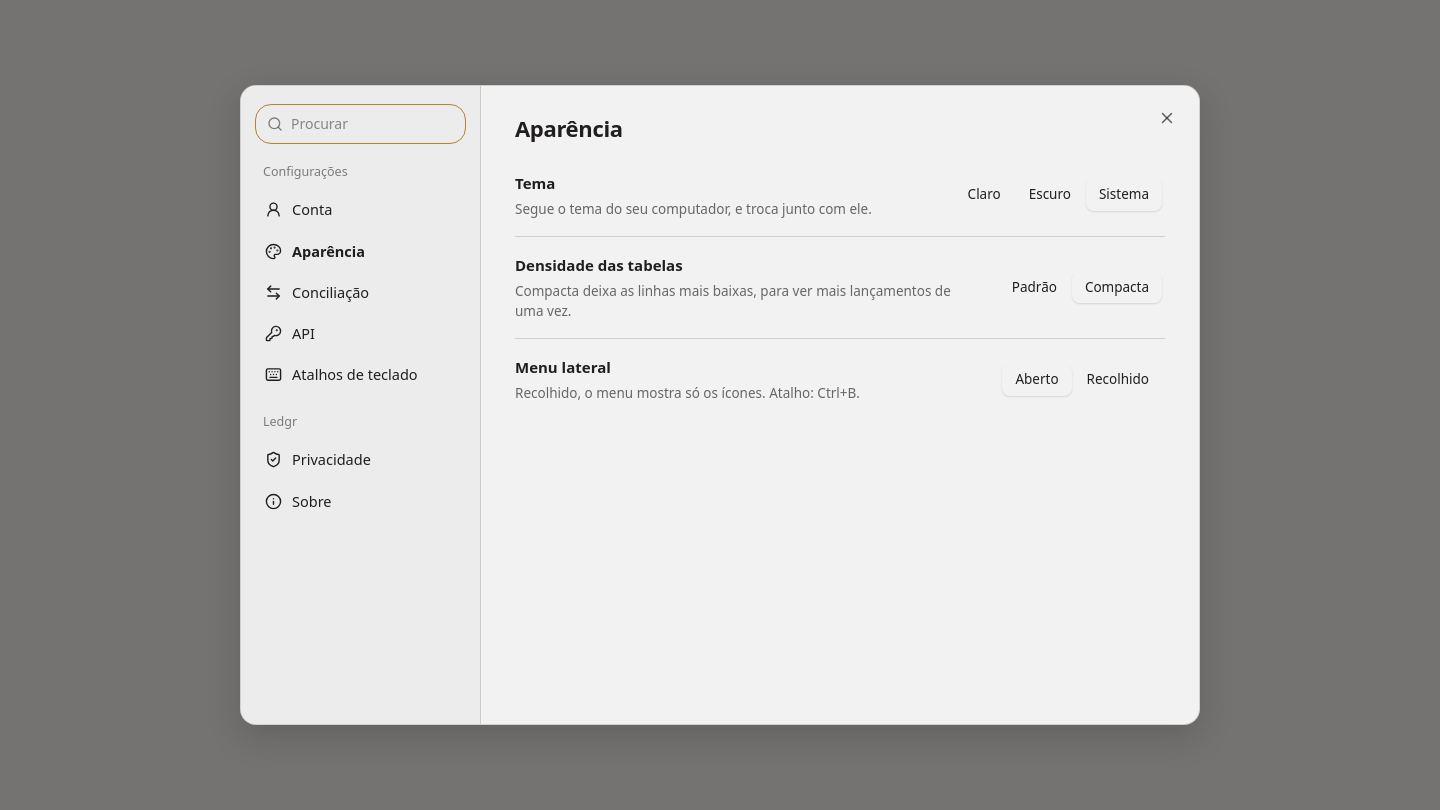
Test: Configuracoes › the date tolerance › changes it with − and +, within the limit the backend gives, and saves it
Click the button "Conciliação" at x=360, y=292, box x1=255 y1=273 x2=466 y2=312
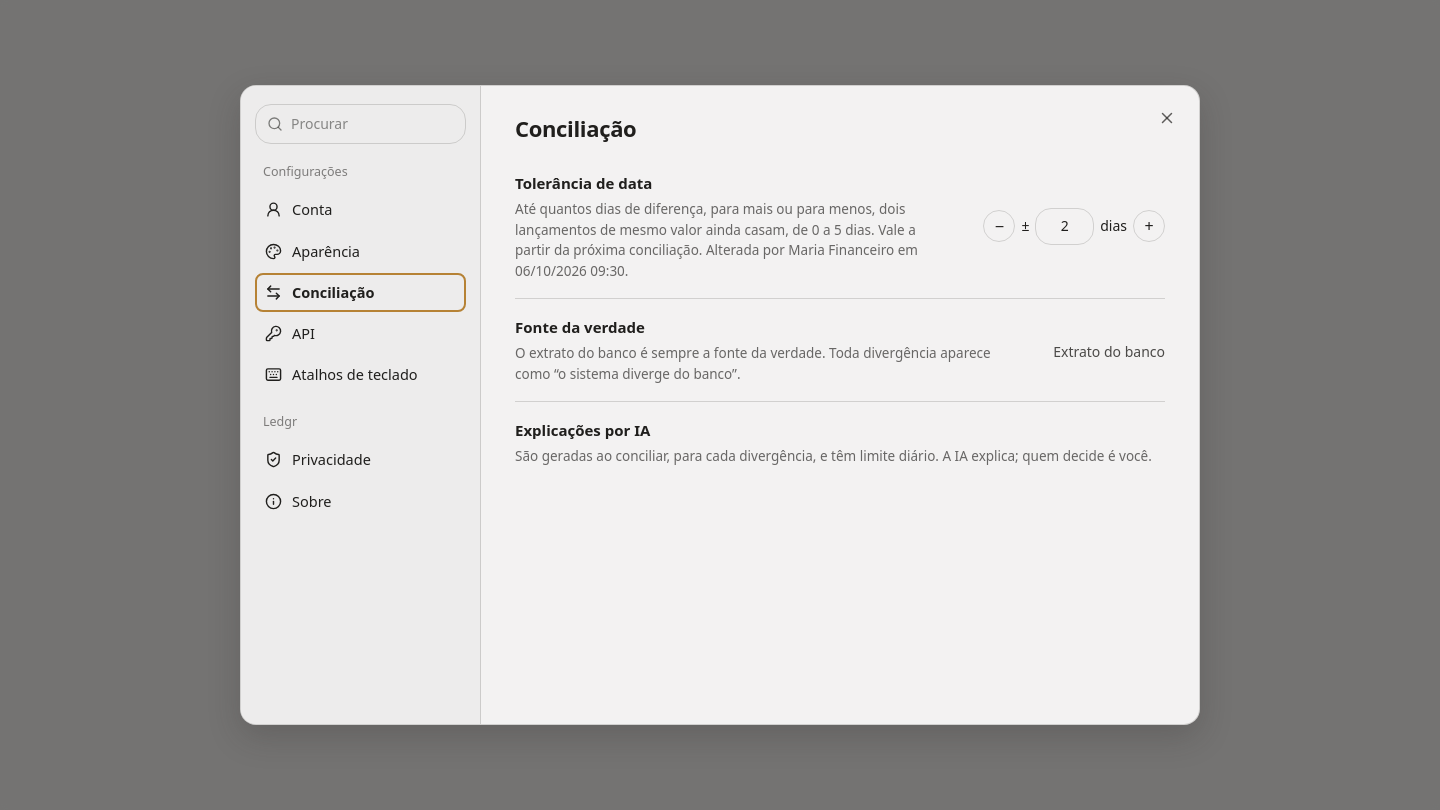
Click the button named "Um dia a mais" at x=1149, y=226, box x1=1133 y1=210 x2=1165 y2=242
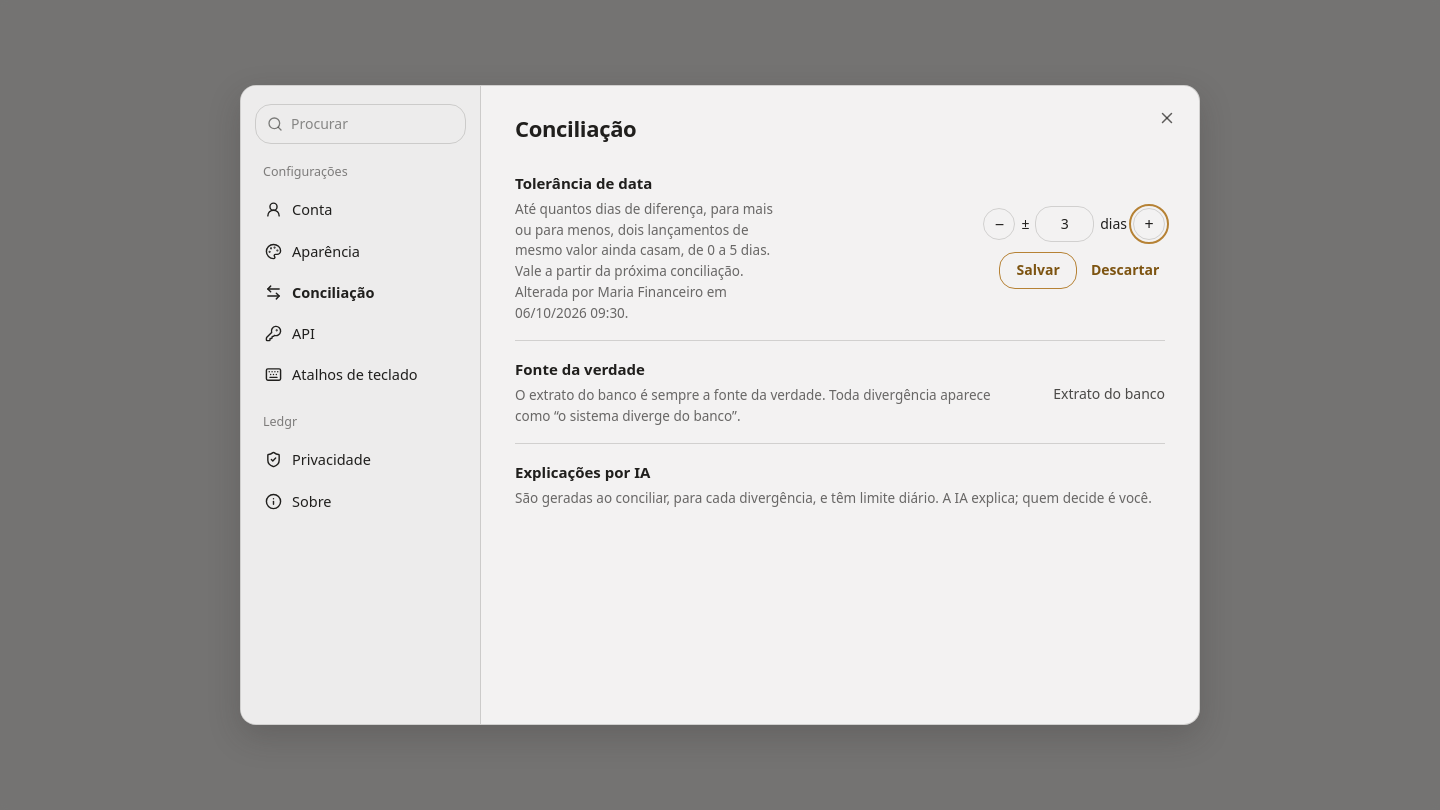
Click the button named "Um dia a mais" at x=1149, y=224, box x1=1133 y1=208 x2=1165 y2=240
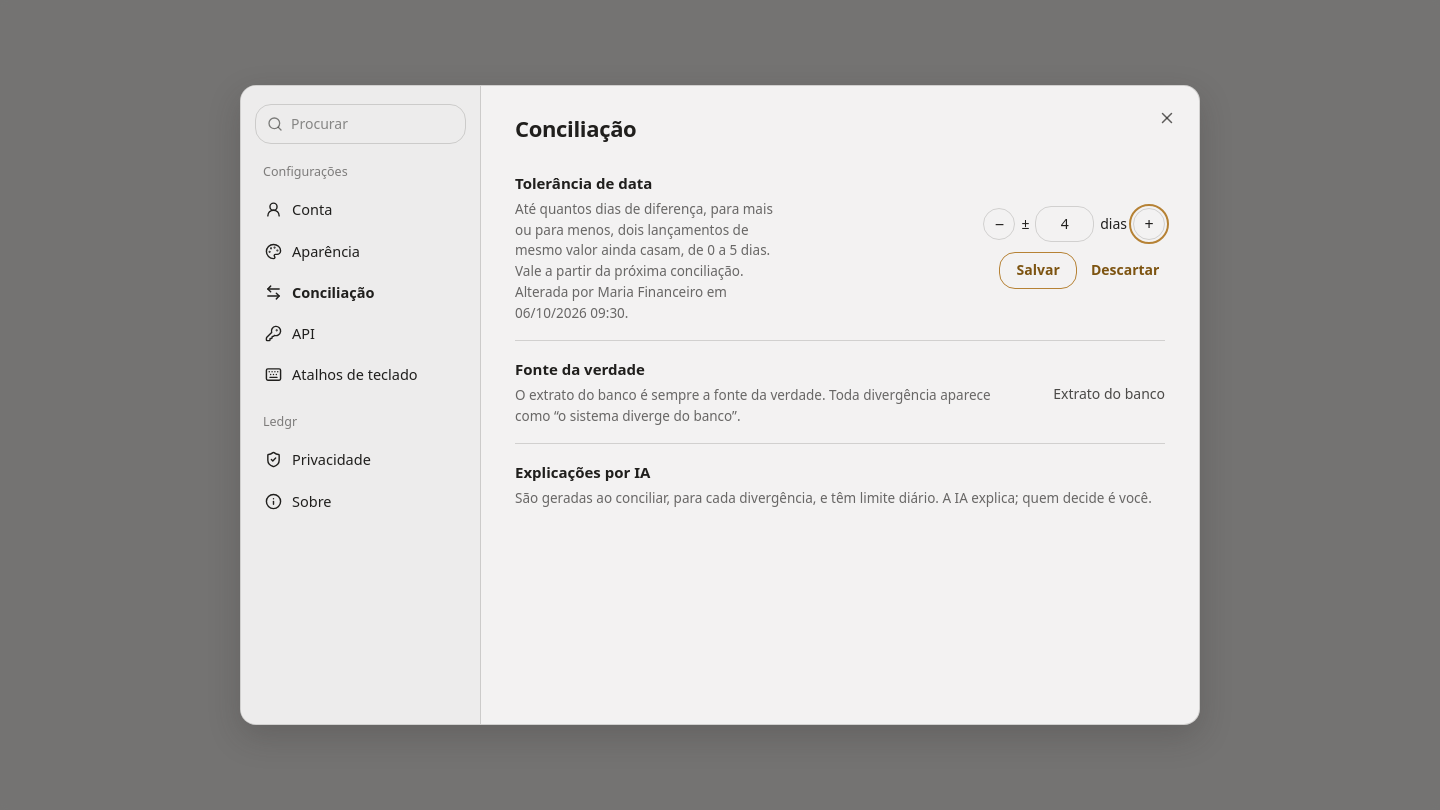
Expected: the number field named "Tolerância de data, em dias para mais ou para menos" holds "4", x1=1035 y1=206 x2=1094 y2=242
Click the button "Salvar" at x=1038, y=271, box x1=999 y1=252 x2=1077 y2=289
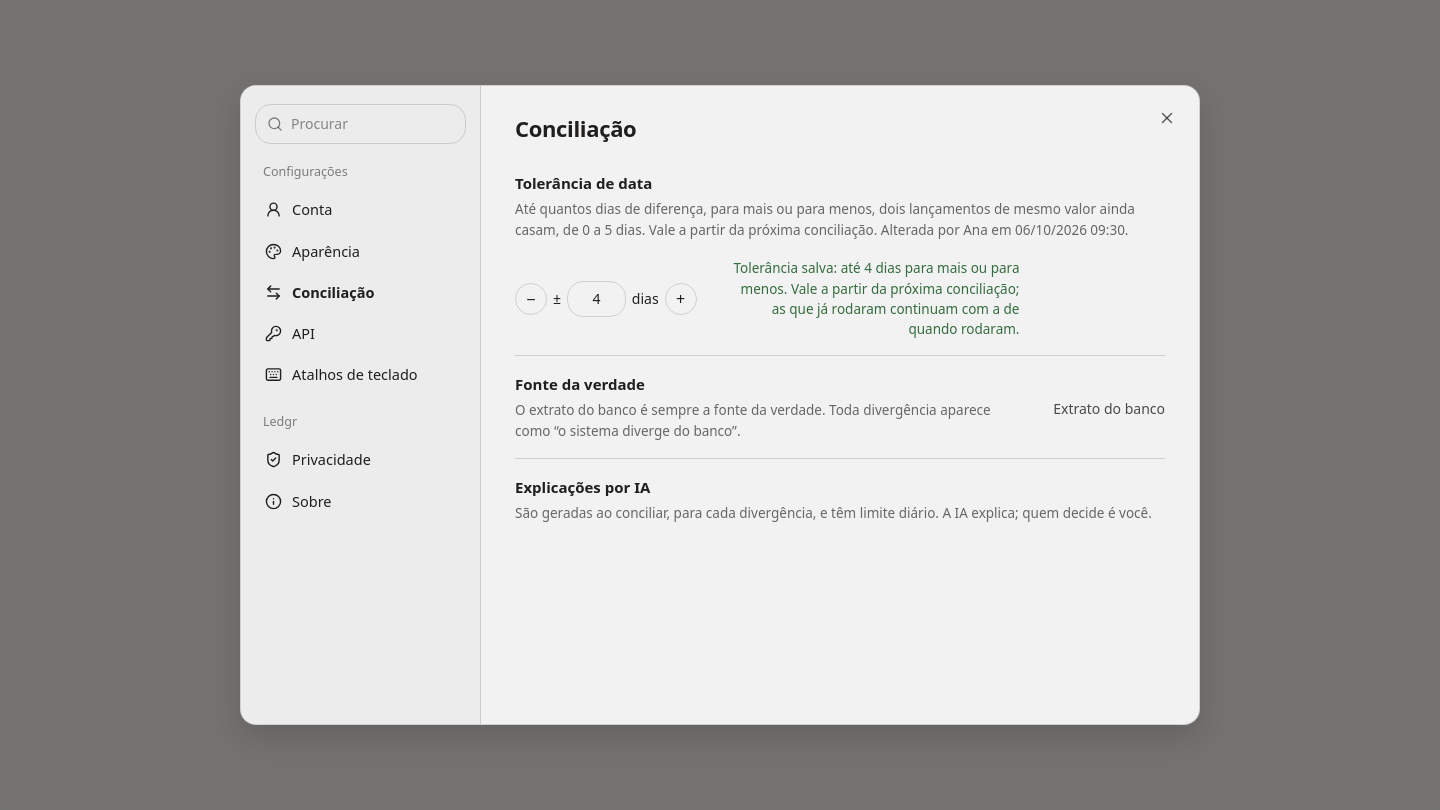
Expected: the message shows "Tolerância salva: até 4 dias para mais ou para menos. Vale a partir da próxima conciliação; as que já rodaram continuam com a de quando rodaram.", x1=734 y1=260 x2=1020 y2=338
Expected: the list item "Tolerância de data" shows "Alterada por Ana", x1=515 y1=200 x2=1135 y2=238
Expected: the button "Salvar" is gone
